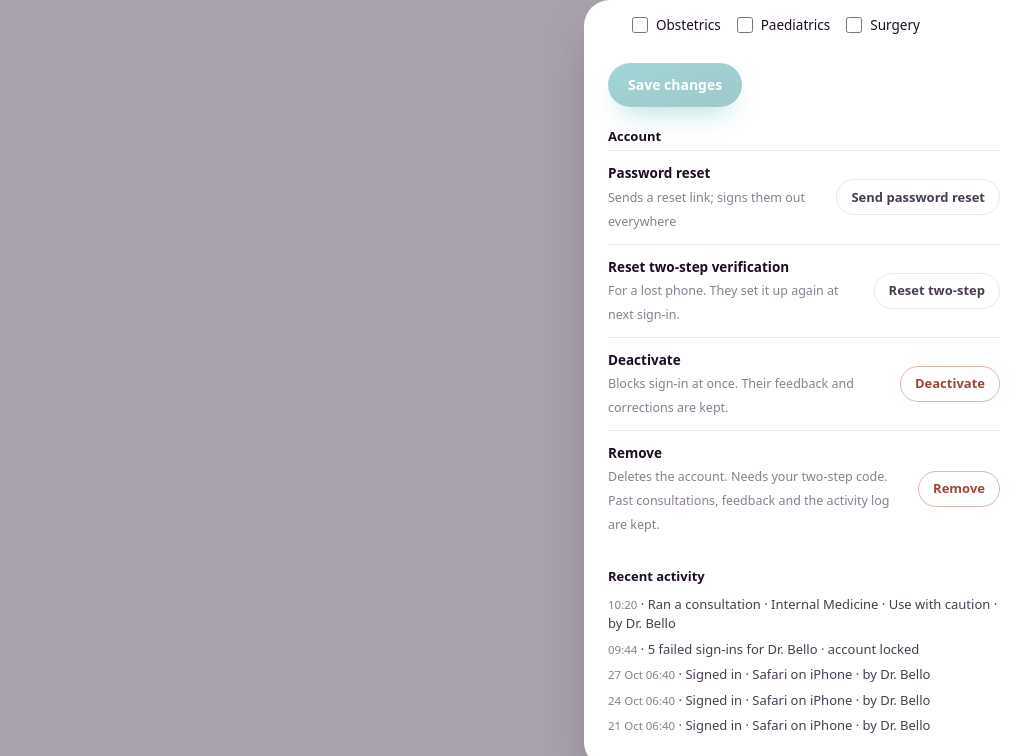
Test: AccountActions › deactivates after a confirmation whose safe button has the focus, then reactivates
The width and height of the screenshot is (1024, 756).
(page scrolled)
Click the button "Deactivate": (950,384) [900,366,1000,402]
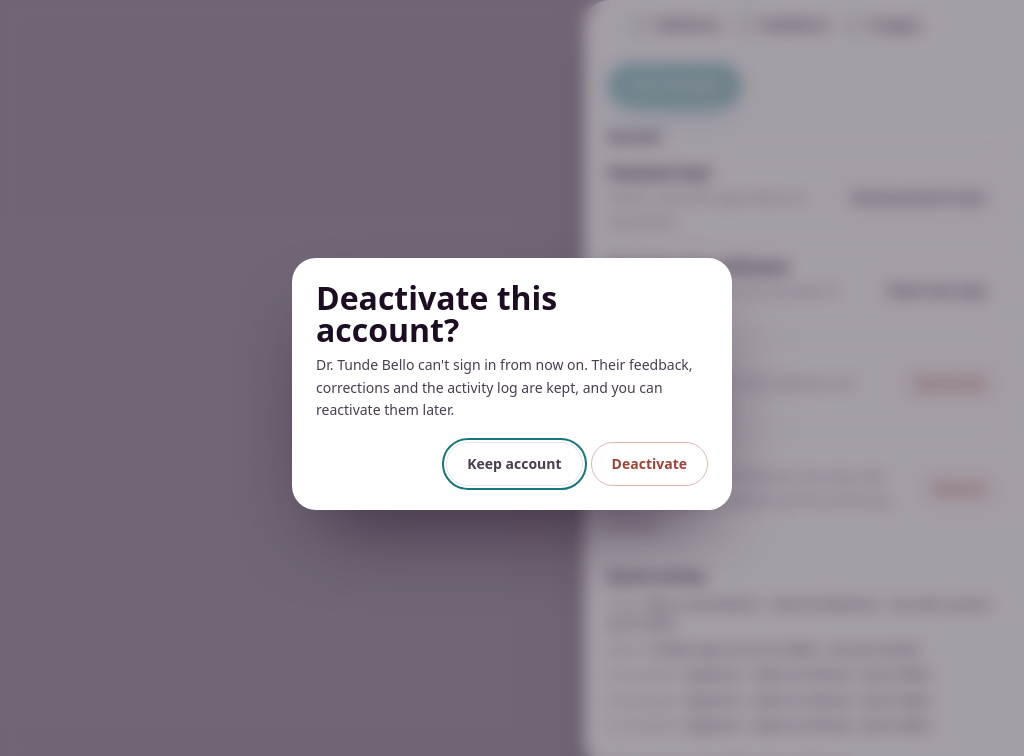
Result: the text "Dr. Tunde Bello can't sign in from now on" is shown at [316,355,693,419]
Click the button "Deactivate": (649,464) [591,442,708,486]
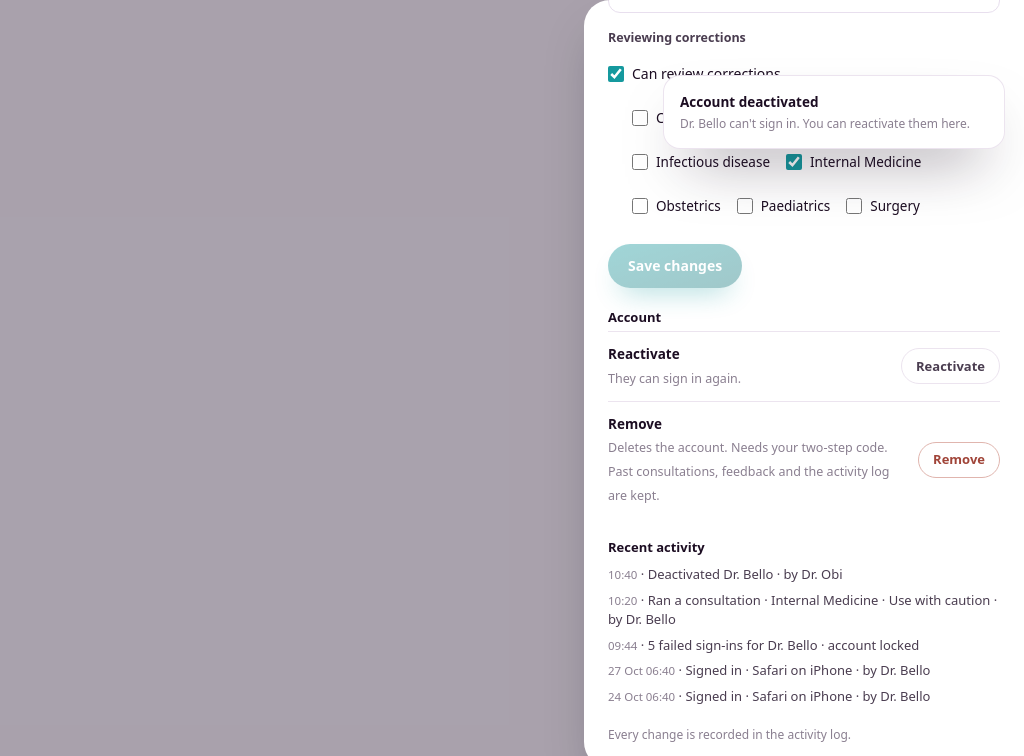
Result: the text "Account deactivated" is shown at [680,93,818,111]
Click the button "Reactivate": (950,366) [901,348,1000,384]
(page scrolled)
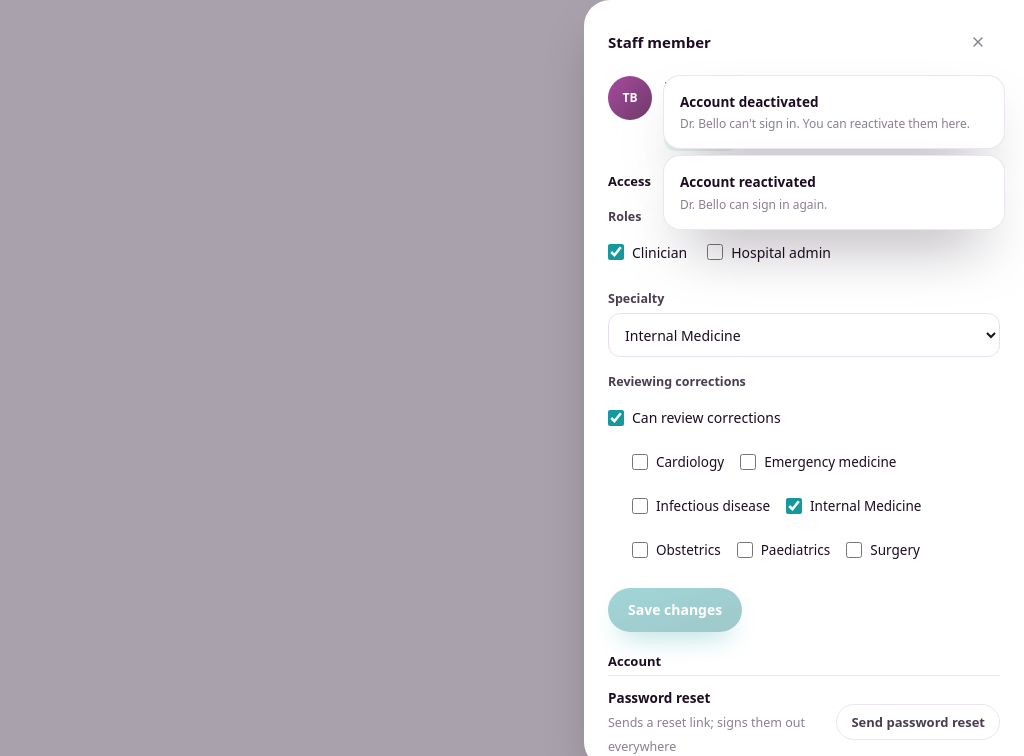
Result: the text "Account reactivated" is shown at [680,173,816,191]
Result: the text "Active" is shown at [664,127,738,151]
